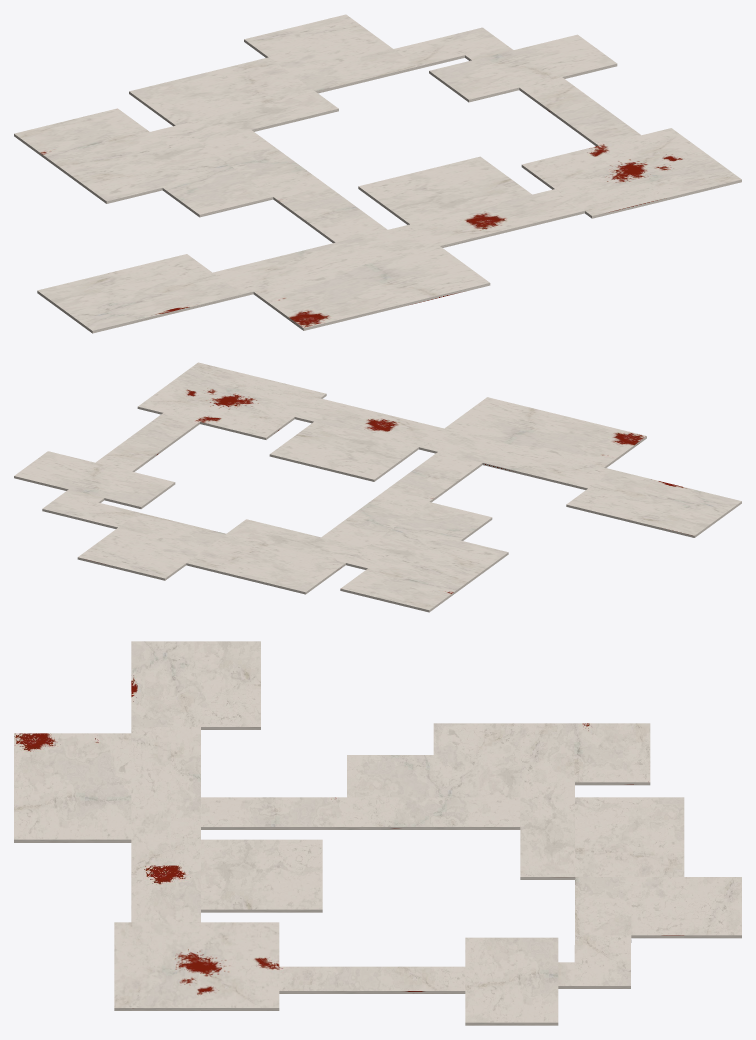
Rendered from PISO.fbx.
The picture shows the model from 3 angles, top to bottom: view 1: azimuth 30°, elevation 25°; view 2: azimuth 150°, elevation 25°; view 3: azimuth 270°, elevation 25°; orthographic projection. The views are drawn at different scales.
Parts seen in each view (by area): view 1: pisop1; view 2: pisop1; view 3: pisop1.
Boxes of the visible parts, x1=… form: pisop1: x1=14, y1=14, x2=741, y2=333; pisop1: x1=14, y1=362, x2=741, y2=612; pisop1: x1=14, y1=641, x2=741, y2=1025.
Size of the model in its own units: 5132 by 19.38 by 4143.
2 materials, 2 textured.
